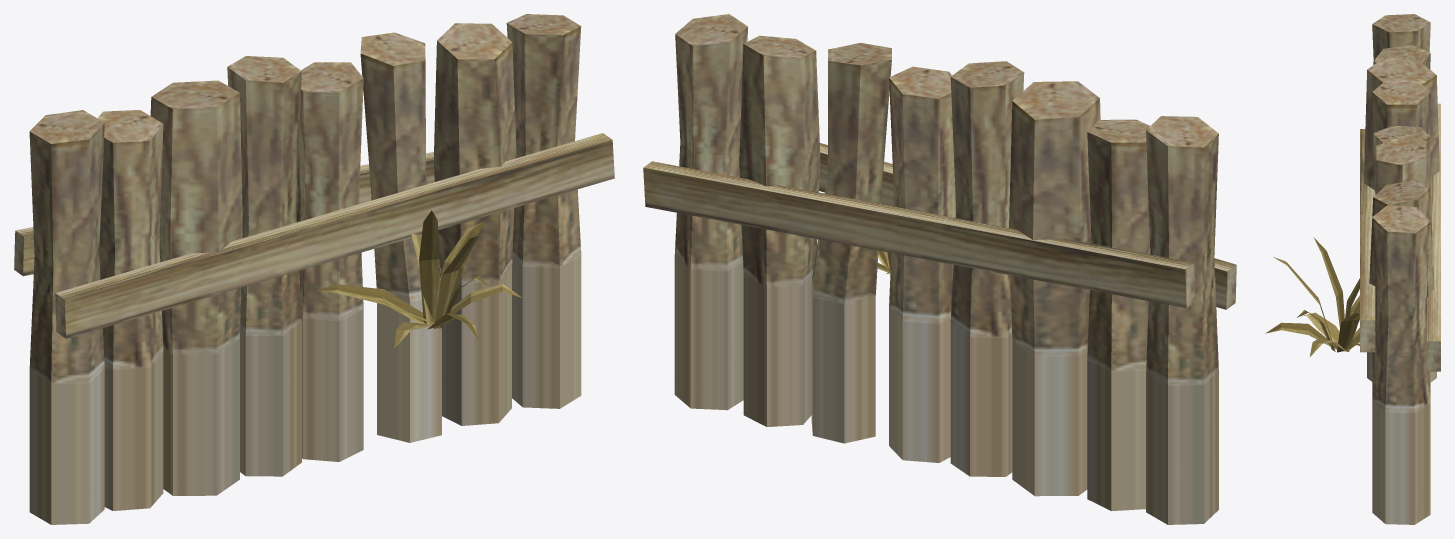
The model's file is C3SMWDFENH_DM.obj.
The picture shows the model from 3 angles, left to right: view 1: azimuth 30°, elevation 25°; view 2: azimuth 150°, elevation 25°; view 3: azimuth 270°, elevation 25°; orthographic projection. The views are drawn at different scales.
Visible parts, largest first — view 1: Node 0; view 2: Node 0; view 3: Node 0.
Part boxes in pixels (x1,y1,x2,y2): Node 0: (14, 14, 614, 524); Node 0: (643, 14, 1236, 524); Node 0: (1265, 14, 1440, 524).
Size of the model in its own units: 5.01 by 3.44 by 1.74.
Materials: 2 (2 with a texture image).
